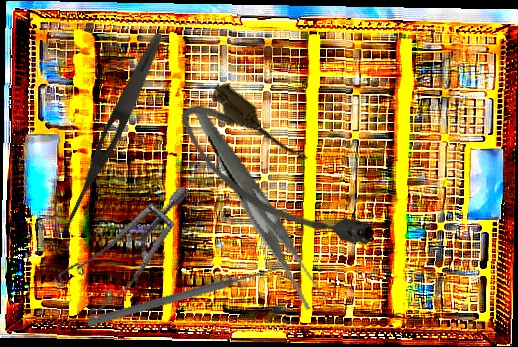Cannula: (165, 73, 388, 282)
Dressing Forceps: (193, 87, 328, 325), (58, 29, 168, 236)
Pusher: (86, 263, 279, 329)
Speculum: (45, 158, 190, 335)
